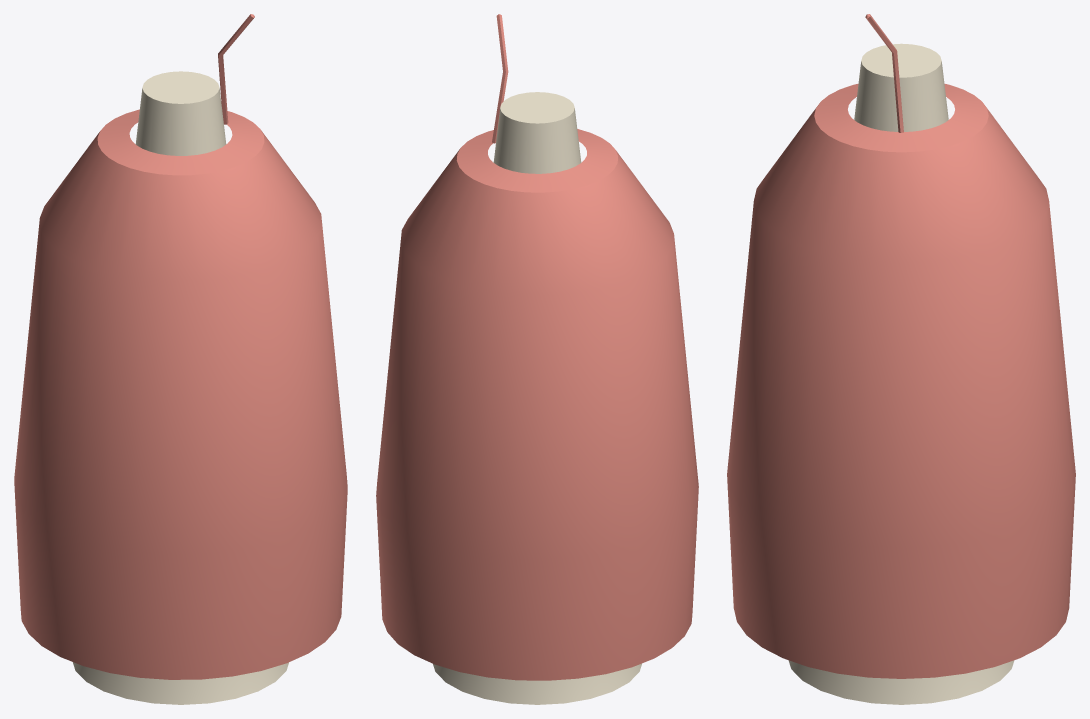
Rendered from industrial_cone.glb.
The picture shows the model from 3 angles, left to right: view 1: azimuth 30°, elevation 25°; view 2: azimuth 150°, elevation 25°; view 3: azimuth 270°, elevation 25°; orthographic projection. The views are drawn at different scales.
Visible parts, largest first — view 1: industrial_cone; view 2: industrial_cone; view 3: industrial_cone.
Boxes of the visible parts, left/top/right/bottom form: industrial_cone: left=14, top=14, right=347, bottom=704; industrial_cone: left=376, top=14, right=698, bottom=704; industrial_cone: left=727, top=14, right=1075, bottom=704.
Size of the model in its own units: 0.104 by 0.2205 by 0.104.
